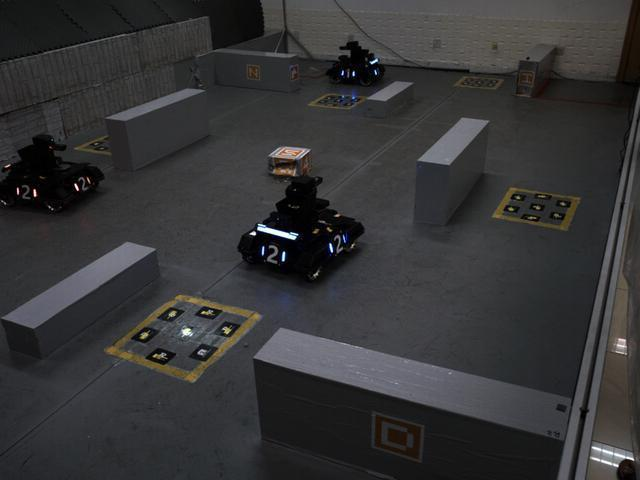armor: (257, 239, 289, 270), (322, 230, 352, 262), (65, 171, 97, 195), (12, 180, 43, 204), (338, 65, 357, 80)
